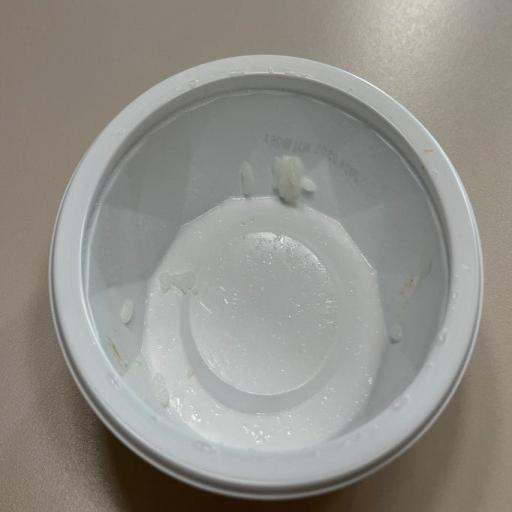plastic: (49, 56, 483, 498)
